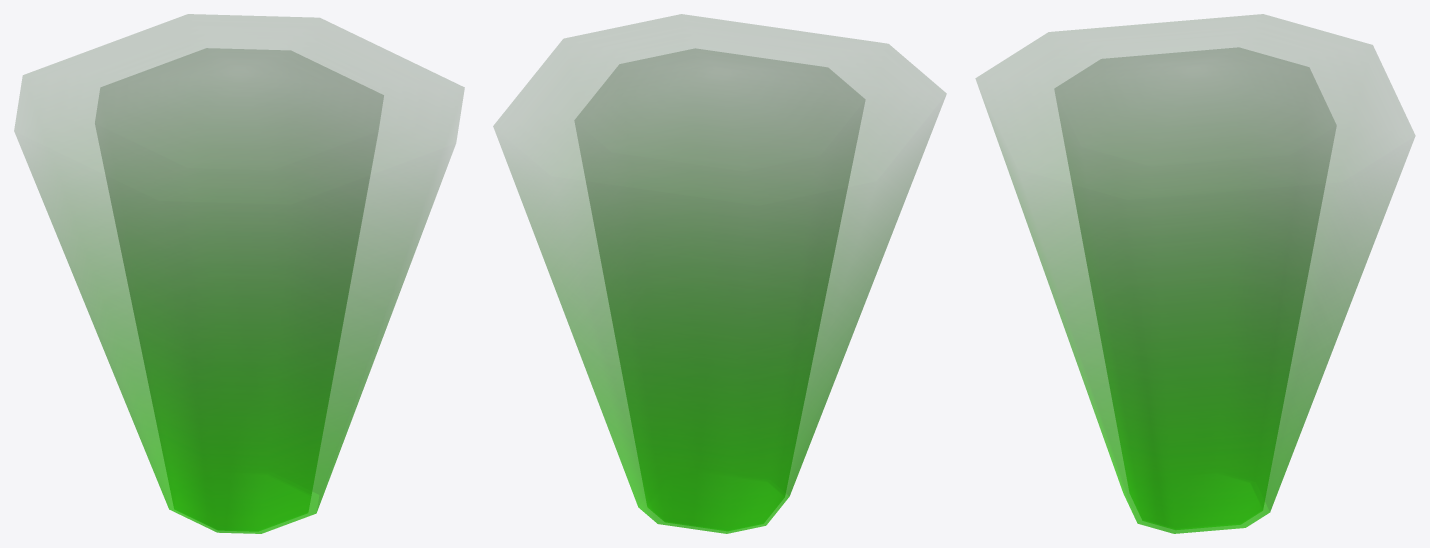
File: indicatorPortal.glb
3 renders of one model, left to right at view 1: azimuth 30°, elevation 25°; view 2: azimuth 150°, elevation 25°; view 3: azimuth 270°, elevation 25°, orthographic.
Parts seen in each view (by area): view 1: IndicatorSpawnAreaPurple.Animated; view 2: IndicatorSpawnAreaPurple.Animated; view 3: IndicatorSpawnAreaPurple.Animated.
Part boxes in pixels (x1,y1,x2,y2): IndicatorSpawnAreaPurple.Animated: (14,14,464,533); IndicatorSpawnAreaPurple.Animated: (493,14,945,533); IndicatorSpawnAreaPurple.Animated: (976,14,1414,533).
Size of the model in its own units: 3.67 by 3.97 by 3.67.
1 material, 1 textured.
